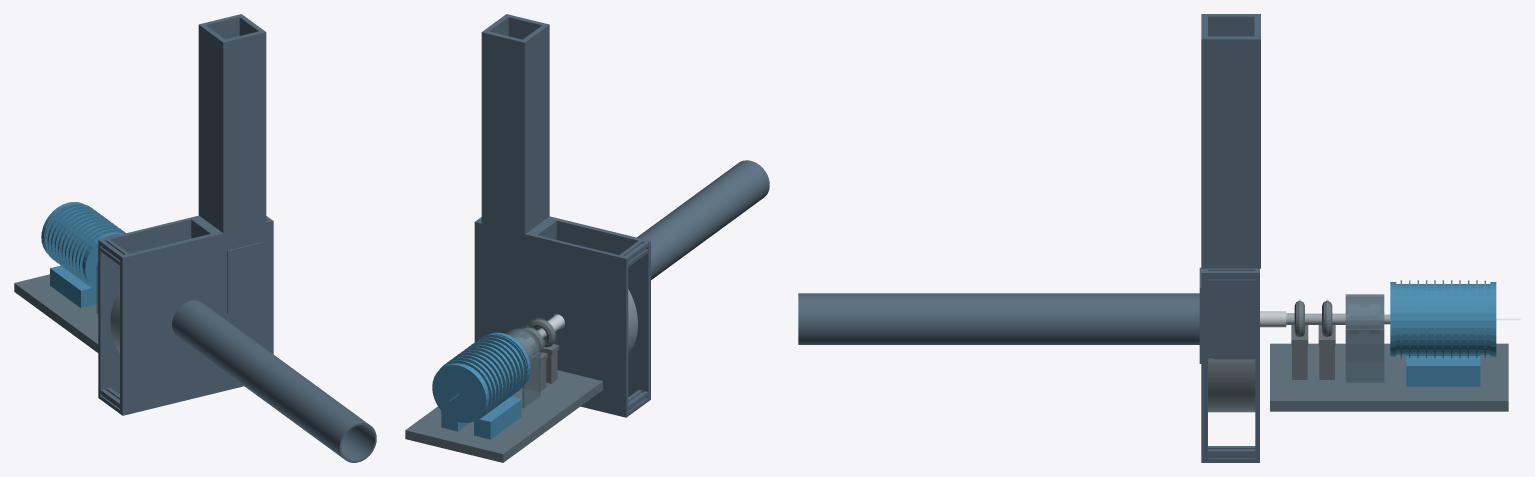
The model's file is induced-draft-fan-lod0.glb.
3 views of the same model, side by side, from view 1: azimuth 30°, elevation 25°; view 2: azimuth 150°, elevation 25°; view 3: azimuth 270°, elevation 25° (orthographic). The views are drawn at different scales.
Visible parts, largest first — view 1: SHELL, motor, drive_base, SHELL002, SHELL010; view 2: SHELL, SHELL002, motor, drive_base, coupling_guard, bearing_drive_housing, bearing_non_drive_housing, SHELL010; view 3: SHELL, drive_base, motor, SHELL002, coupling_guard, SHELL010, bearing_drive_housing, bearing_non_drive_housing.
Part boxes in pixels (x1,y1,x2,y2): SHELL: [98, 14, 376, 462]; motor: [41, 202, 125, 307]; drive_base: [14, 274, 98, 352]; SHELL002: [101, 18, 375, 462]; SHELL010: [110, 288, 119, 352]; SHELL: [474, 14, 769, 417]; SHELL002: [474, 222, 647, 416]; motor: [432, 332, 530, 439]; drive_base: [405, 370, 602, 462]; coupling_guard: [506, 328, 540, 408]; bearing_drive_housing: [517, 327, 547, 391]; bearing_non_drive_housing: [528, 319, 559, 383]; SHELL010: [628, 289, 637, 355]; SHELL: [798, 14, 1260, 462]; drive_base: [1270, 343, 1508, 411]; motor: [1390, 280, 1496, 386]; SHELL002: [1201, 31, 1260, 447]; coupling_guard: [1345, 294, 1384, 382]; SHELL010: [1208, 359, 1255, 412]; bearing_drive_housing: [1318, 300, 1335, 379]; bearing_non_drive_housing: [1291, 300, 1308, 379].
Size of the model in its own units: 650 by 1435 by 2240.
